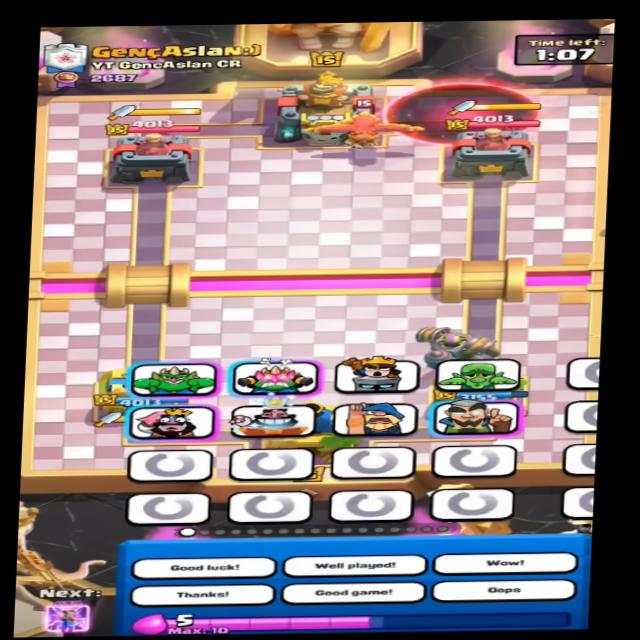phoenix: (300, 97, 432, 151)
